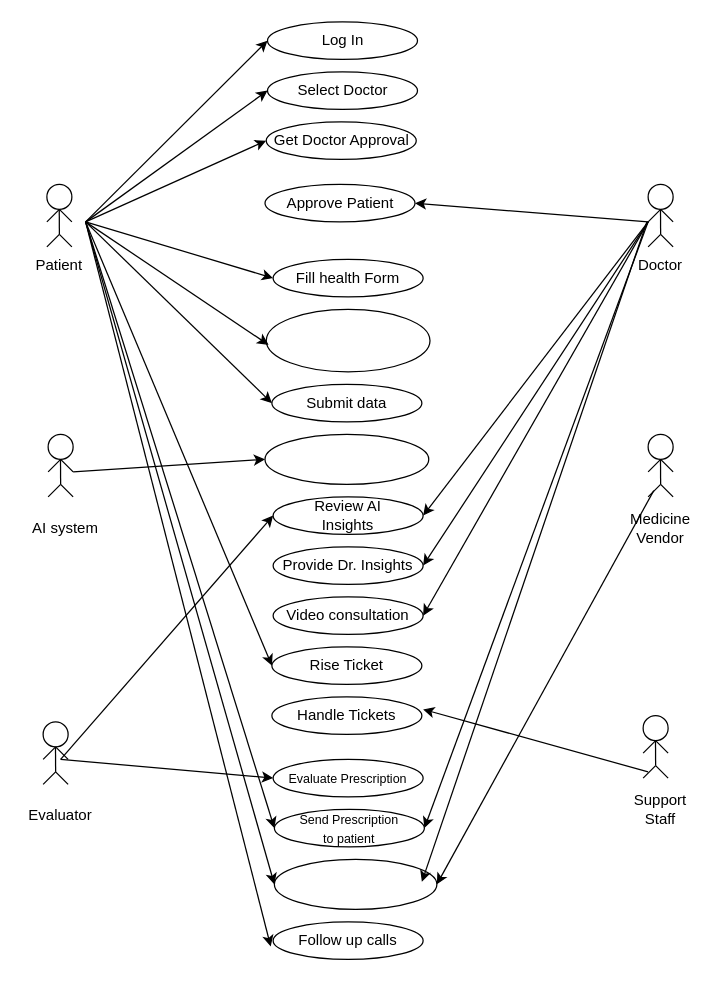
This 719x981 diagram has some shape labels left out. The shapes that lost their labels are listed below. From the top down, each one's centre as x and y in pixels, then its label:
At pixel 347 340: "Explain Symptom audio/video/text".
At pixel 346 458: "AI Analyse assign CBR tag".
At pixel 355 883: "Order medicine online".
